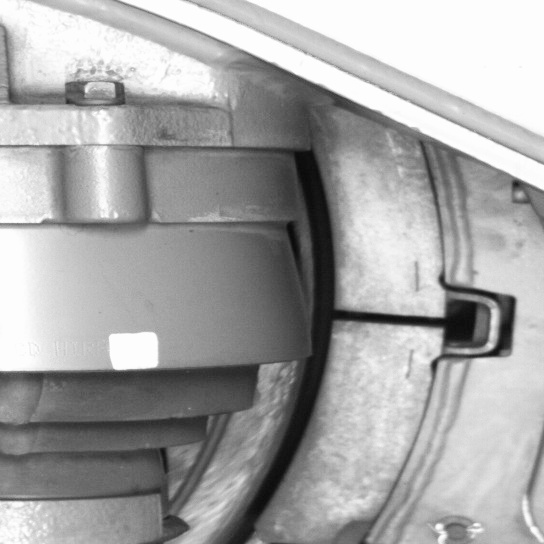KnifeSwitch: (208, 148, 452, 541)
